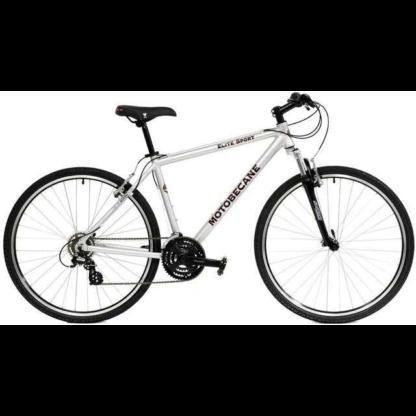Bicycle: (0, 86, 416, 315)
